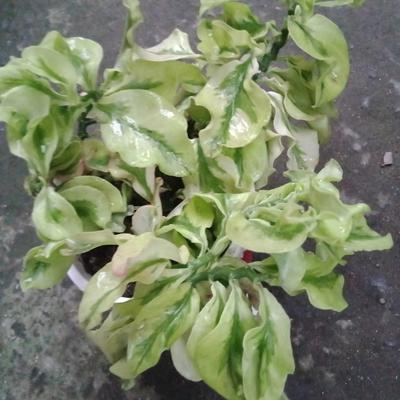Pothos plant: (16, 20, 362, 329)
